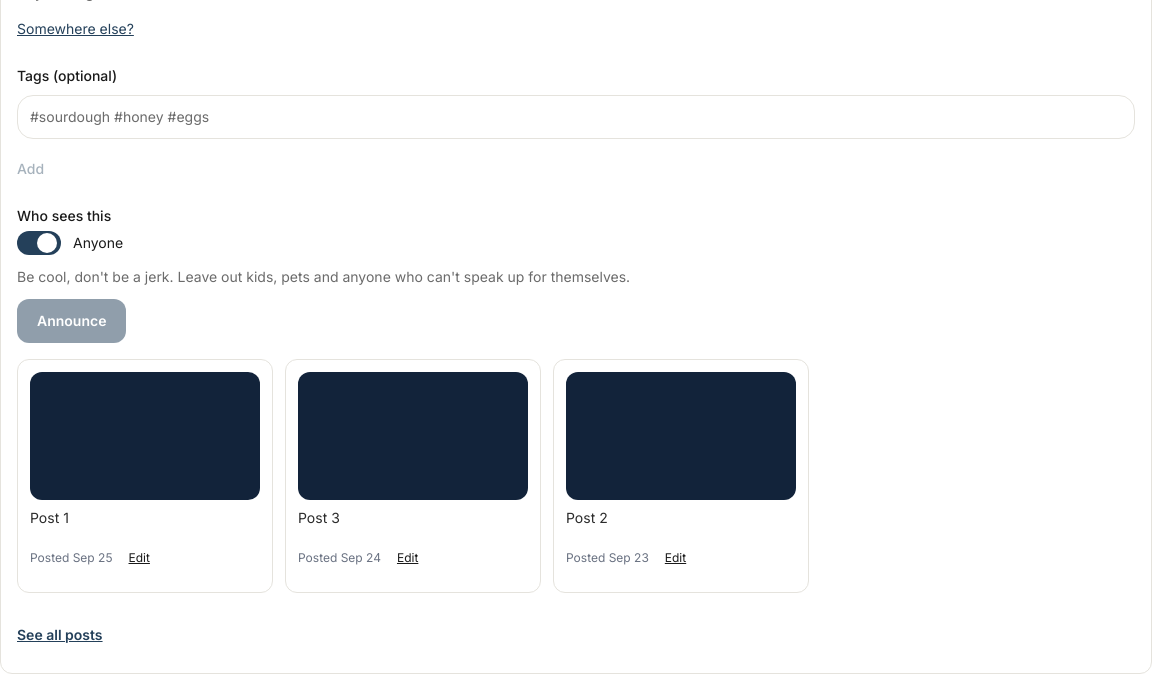
Test: #462 — the latest three in a row, then See all posts › the owner edits in the list: Edit on a card opens it there
(page scrolled)
Click the button with test id "page-post-edit" next to "Posted Sep 24": (408, 558) [393,536,422,580]
(page scrolled)
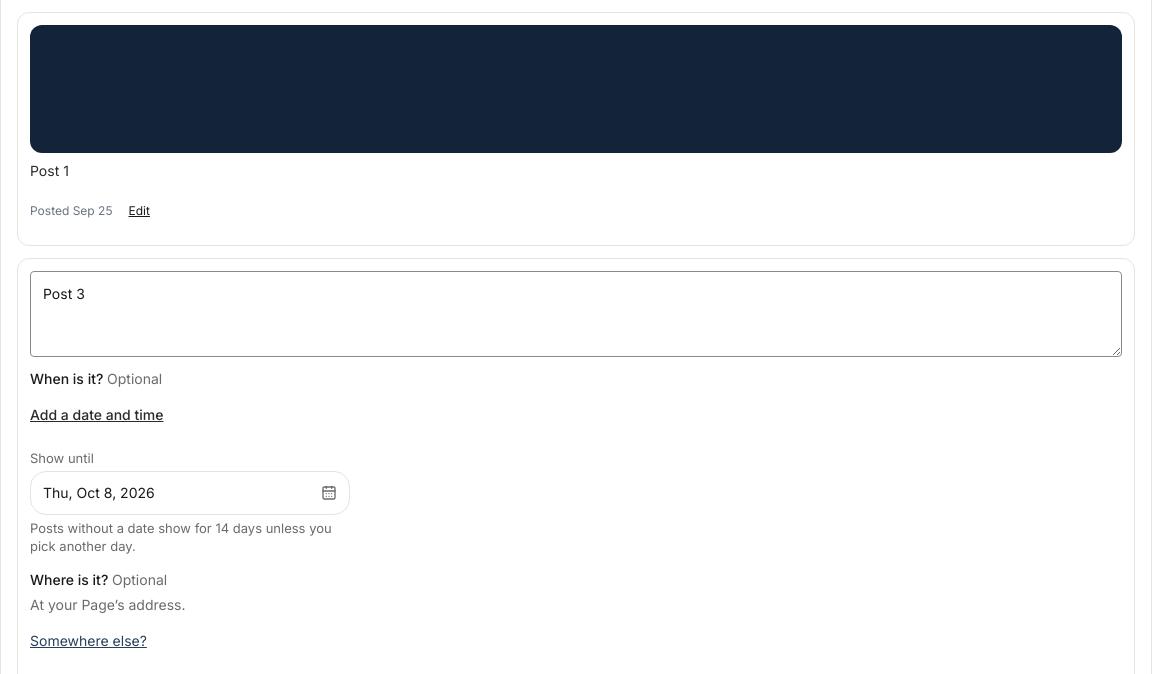
Expected: the text box with test id "page-post-edit-body" holds "Post 3", [30,271,1122,357]
